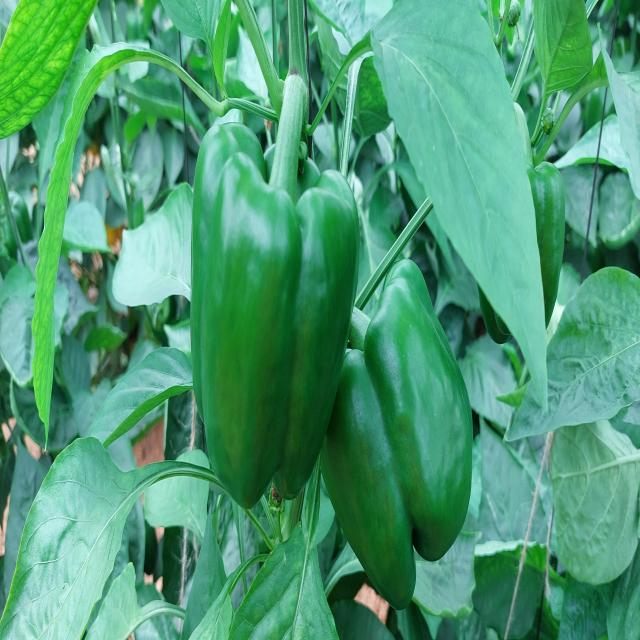Green--Not-ready-to-harvest: (191, 114, 344, 496), (328, 267, 476, 613)
